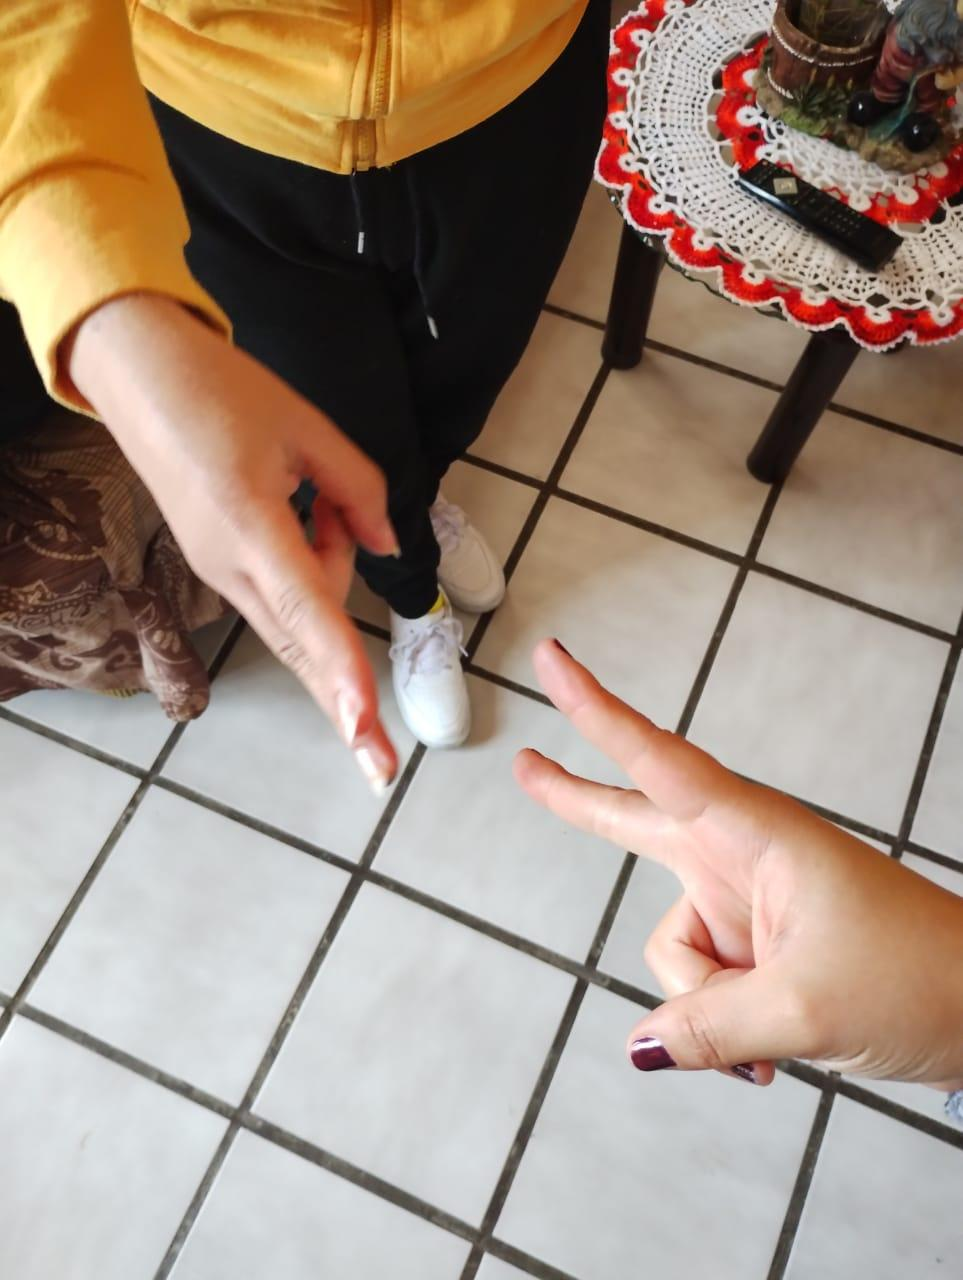Scissor: (0, 283, 487, 806), (490, 623, 963, 1157)
